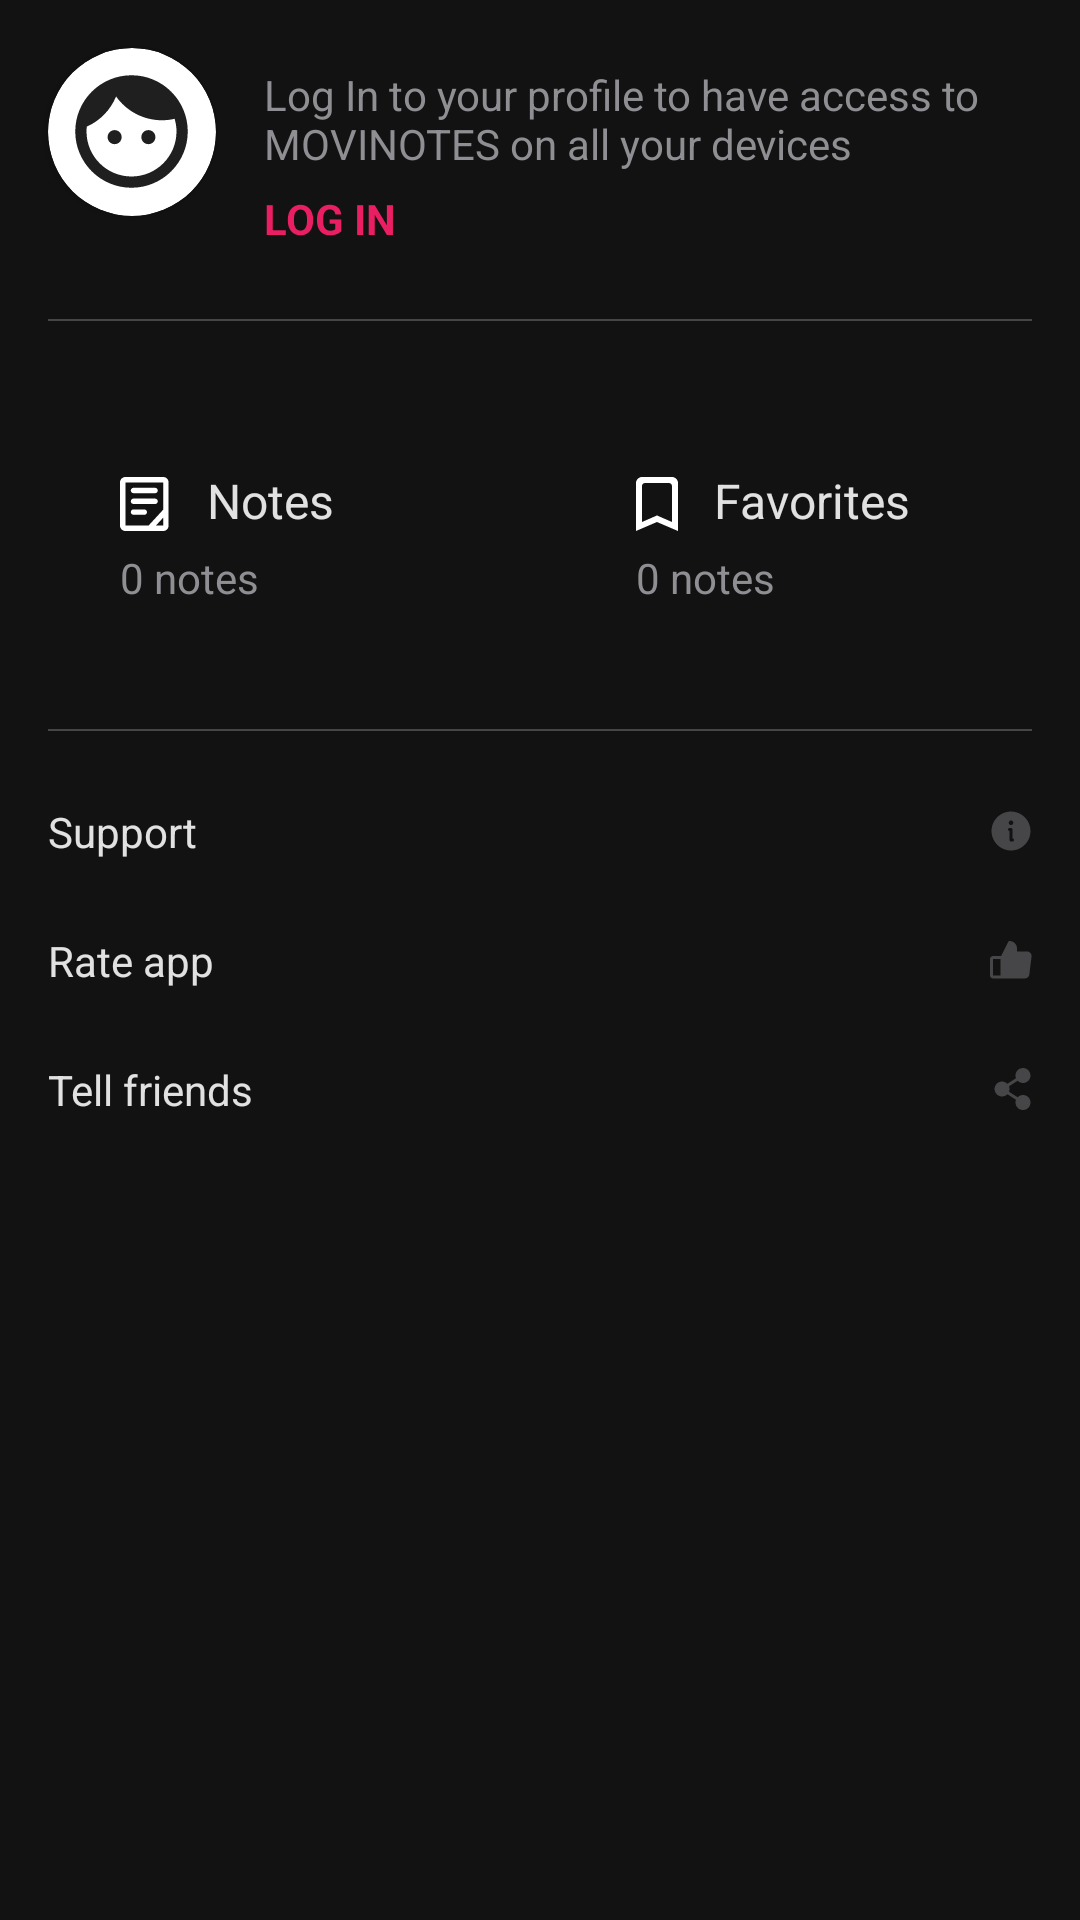

Locate icon controls on the screen. Image size 1080 x 1920, boxes as (left=x1, top=y1, right=x2, bottom=y2).
rate app: (left=990, top=941, right=1032, bottom=979)
support: (left=991, top=811, right=1031, bottom=851)
tell friends: (left=994, top=1068, right=1031, bottom=1110)
